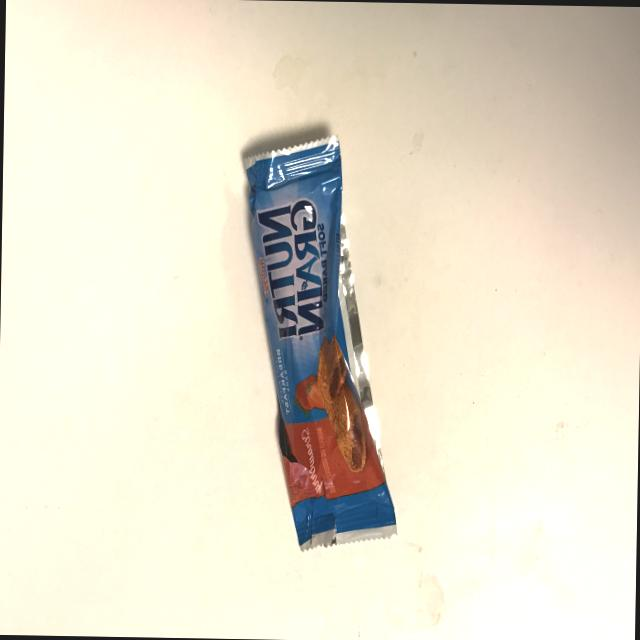Plastic: (222, 112, 452, 573)
